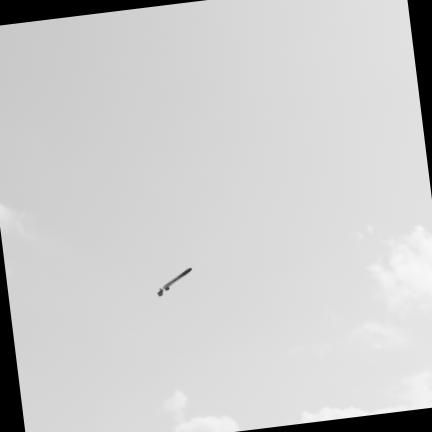Shahed: (158, 267, 191, 295)
